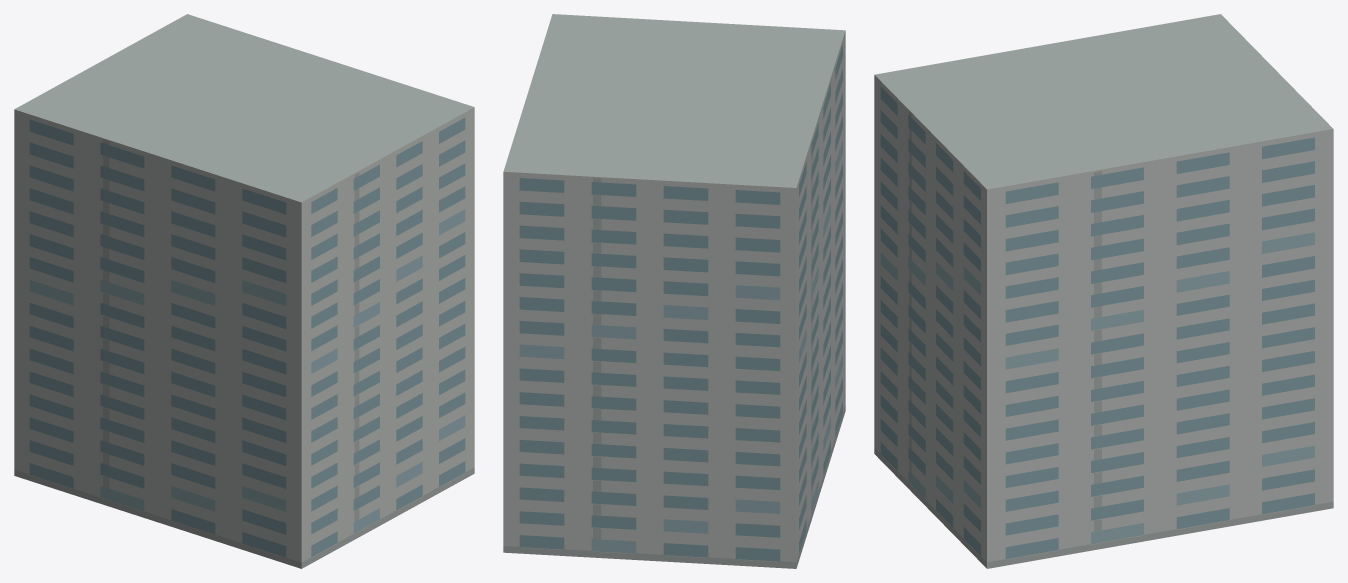
File: residential-6524f7fc-7db7-4794-b28c-a3b12ef9c43b.glb
3 views of the same model, side by side, from view 1: azimuth 30°, elevation 25°; view 2: azimuth 150°, elevation 25°; view 3: azimuth 270°, elevation 25° (orthographic). The views are drawn at different scales.
Parts seen in each view (by area): view 1: residential-6524f7fc-7db7-4794-b28c-a3b12ef9c43b.tmp; view 2: residential-6524f7fc-7db7-4794-b28c-a3b12ef9c43b.tmp; view 3: residential-6524f7fc-7db7-4794-b28c-a3b12ef9c43b.tmp.
Part boxes in pixels (<box>): residential-6524f7fc-7db7-4794-b28c-a3b12ef9c43b.tmp: <box>14,14,474,568</box>; residential-6524f7fc-7db7-4794-b28c-a3b12ef9c43b.tmp: <box>503,14,845,568</box>; residential-6524f7fc-7db7-4794-b28c-a3b12ef9c43b.tmp: <box>874,14,1333,568</box>.
Size of the model in its own units: 59.58 by 60 by 65.81.
